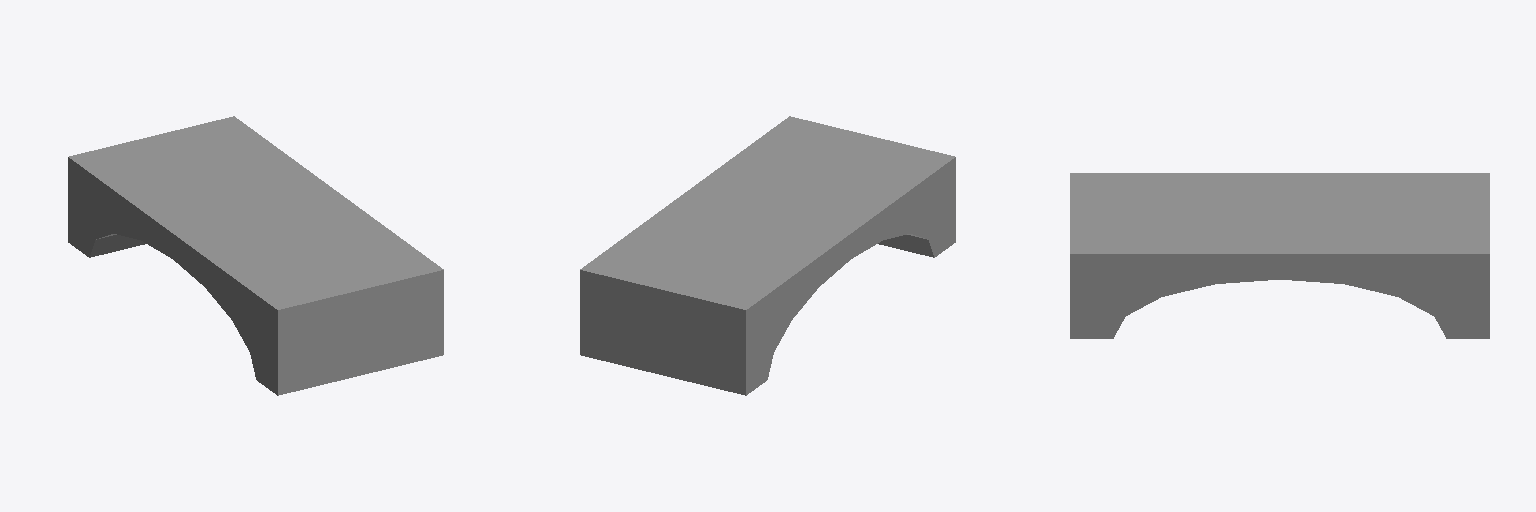
File: largearcbridgepillar.obj
The picture shows the model from 3 angles: view 1: azimuth 30°, elevation 25°; view 2: azimuth 150°, elevation 25°; view 3: azimuth 270°, elevation 25°; orthographic projection.
Visible parts, largest first — view 1: Cube_Cube.001; view 2: Cube_Cube.001; view 3: Cube_Cube.001.
Part boxes in pixels (left/top/right/bottom): Cube_Cube.001: left=68, top=116, right=443, bottom=395; Cube_Cube.001: left=580, top=116, right=955, bottom=395; Cube_Cube.001: left=1070, top=173, right=1489, bottom=338.
Size of the model in its own units: 1.55 by 0.7626 by 3.39.